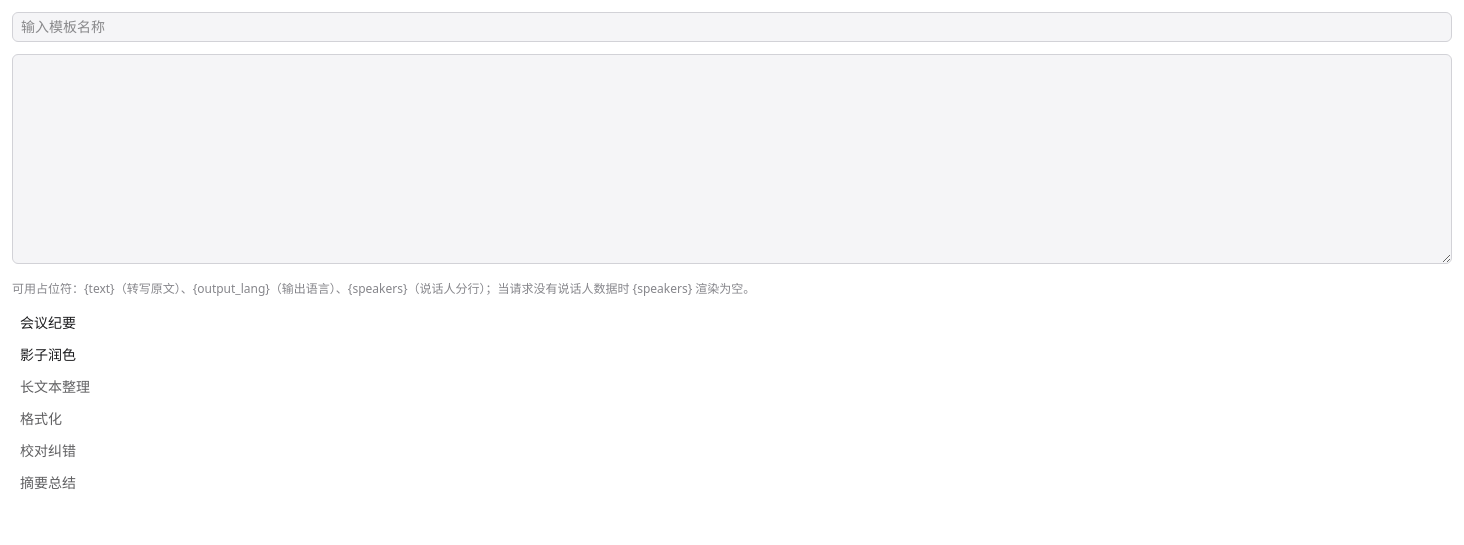
Test case: [20260912_Feat_242_TemplateSystem] TemplatesSection › shows delete (not restore-default) for a pure custom template
The width and height of the screenshot is (1464, 545).
Click the button with test id "template-entry-meeting" at [48, 322], box 12,309 -> 1452,337
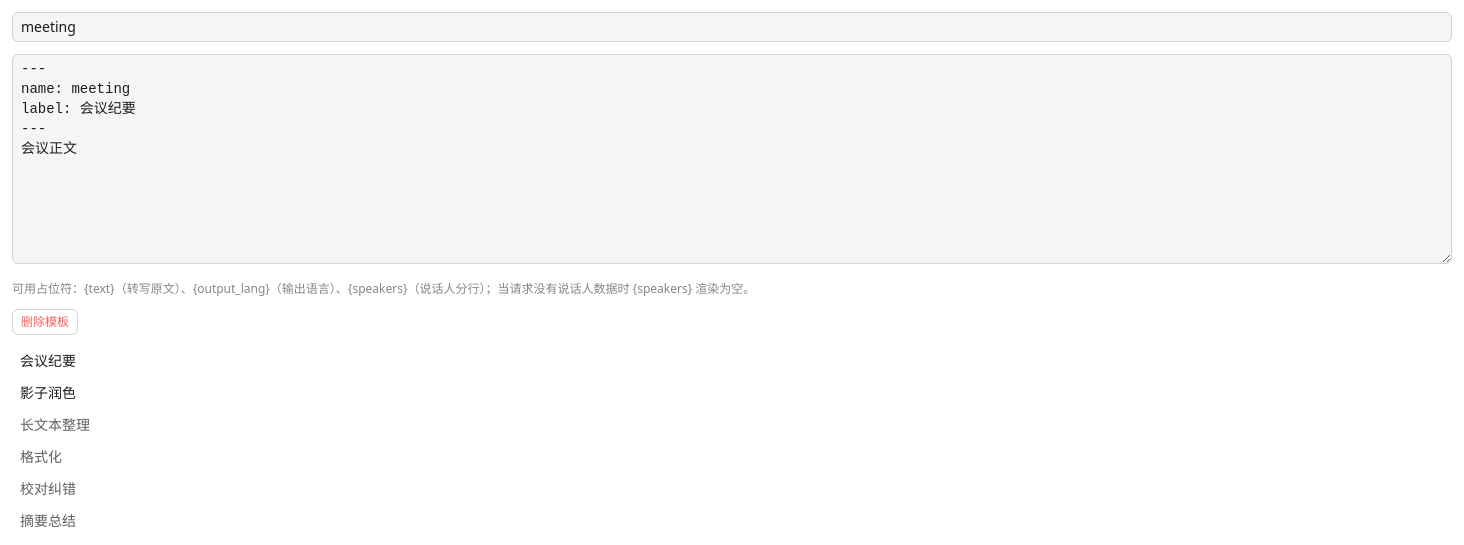
Result: the button with test id "template-delete" is shown at 12,309 -> 78,335
